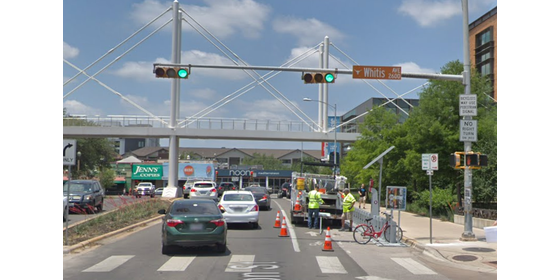bicyclists must use ped signal sign: (456, 90, 480, 117)
no right turn on red sign: (458, 118, 479, 144)
